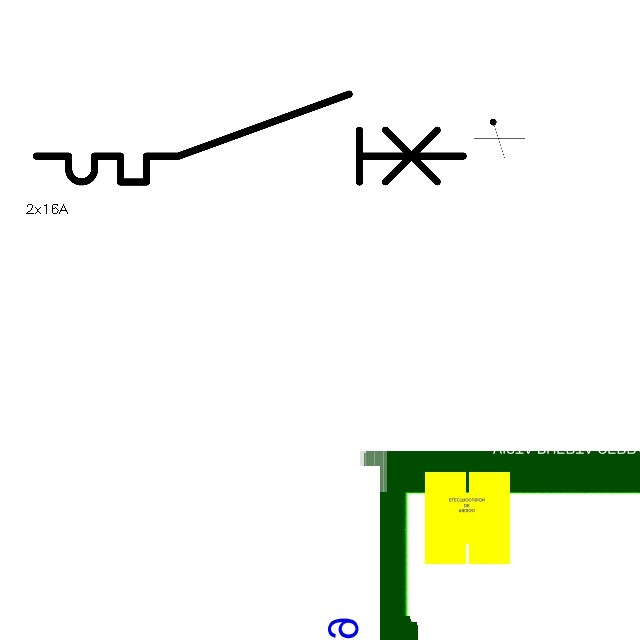interruptor_termomagnetico: (25, 83, 474, 193)
